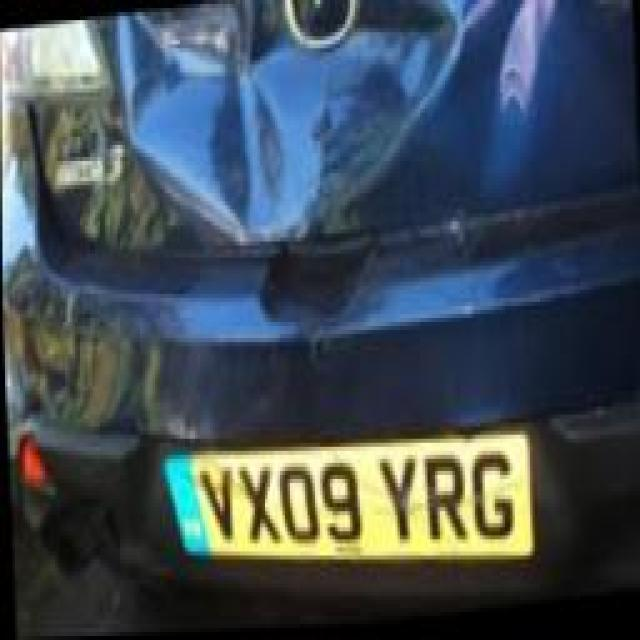replaceable: (131, 4, 598, 223)
